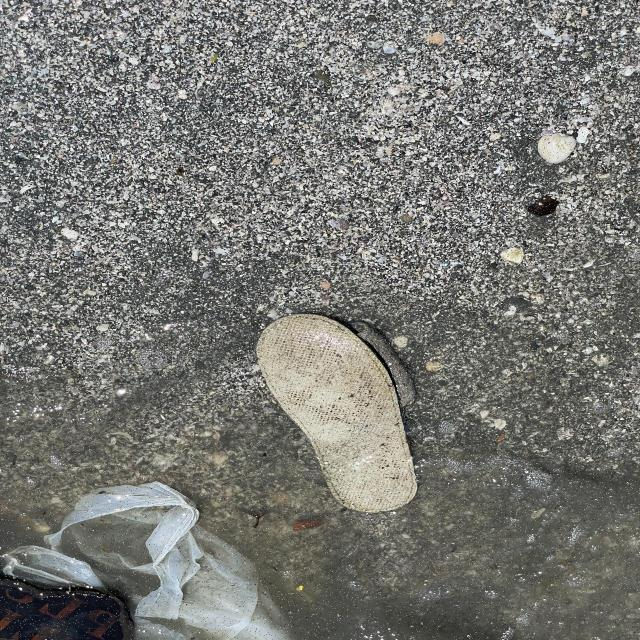rubber_waste: (257, 316, 418, 514)
